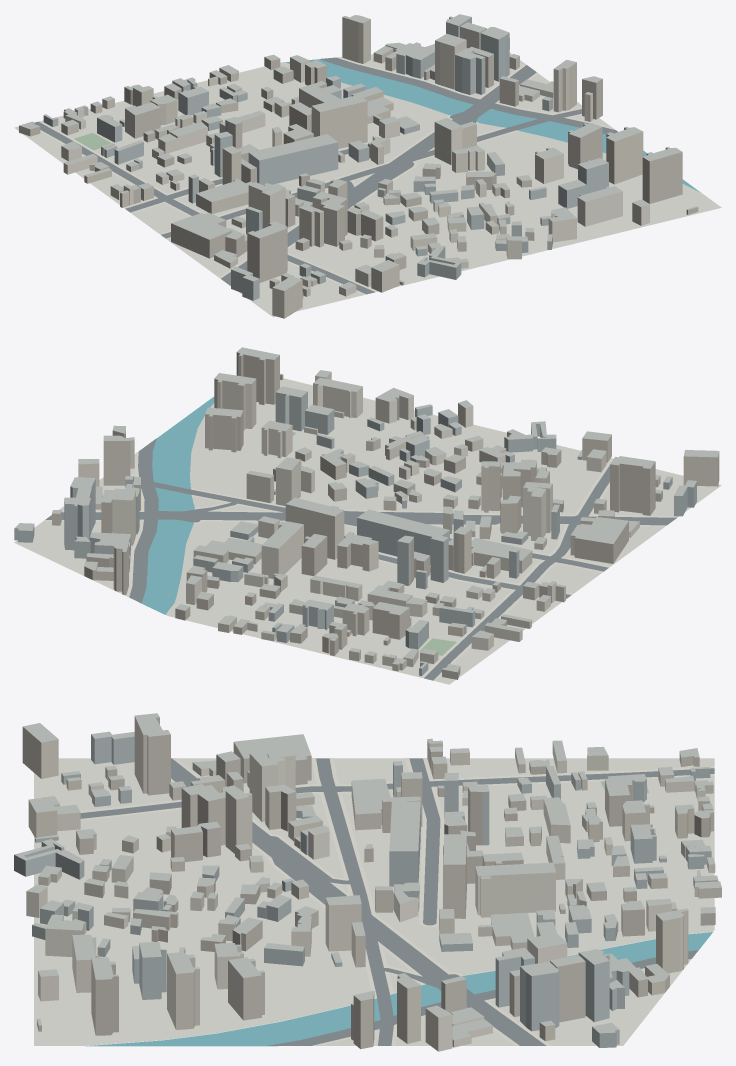
The picture shows the model from 3 angles, top to bottom: view 1: azimuth 30°, elevation 25°; view 2: azimuth 150°, elevation 25°; view 3: azimuth 270°, elevation 25°; orthographic projection. The views are drawn at different scales.
Visible parts, largest first — view 1: city; view 2: city; view 3: city.
Part boxes in pixels (x1,y1,x2,y2): city: [14, 14, 721, 318]; city: [14, 347, 721, 684]; city: [14, 713, 721, 1051].
Size of the model in its own units: 520 by 47.78 by 520.
